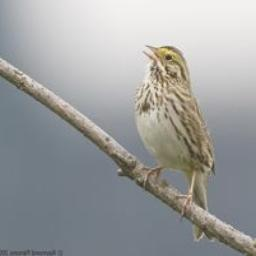Sparrow: (136, 40, 218, 244)
